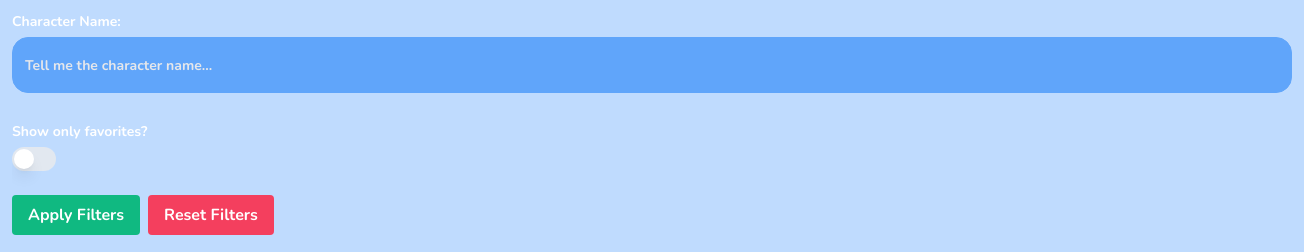
Test: Filter Component › should reset filters when clicking reset button
Type "Thor" into the field with placeholder "Tell me the character name...".
click(652, 65); type("Thor")  # box [12,37,1292,93]
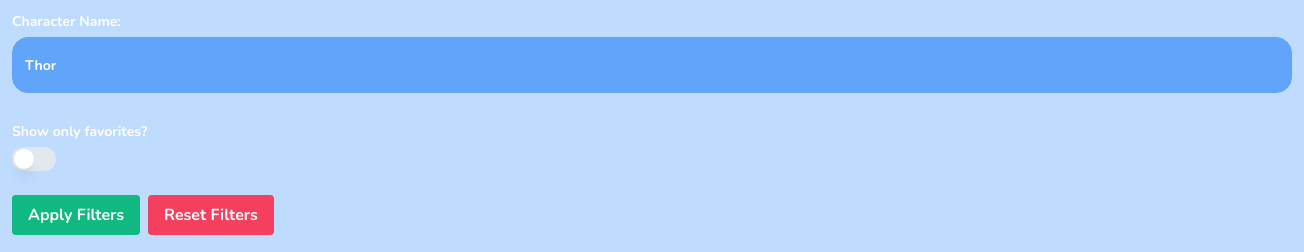
Click the button "Reset Filters".
click(211, 215)  # box [148,195,274,235]
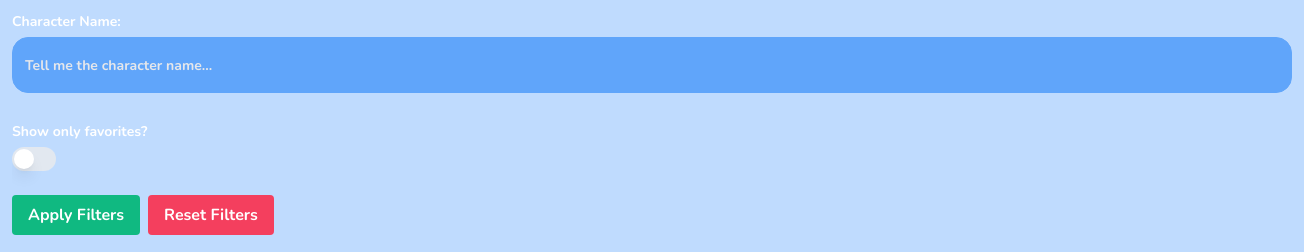
Expected: the field with placeholder "Tell me the character name..." is empty, [12,37,1292,93]
